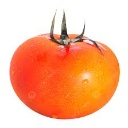tomato: (10, 33, 121, 120)
